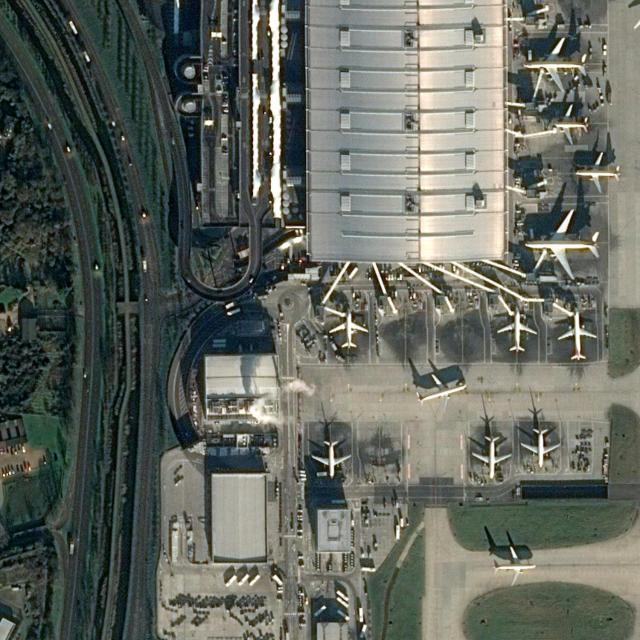Aircraft: (523, 207, 599, 279), (523, 37, 588, 92), (416, 372, 468, 414), (557, 309, 597, 361), (574, 152, 620, 194), (496, 307, 538, 352), (492, 545, 536, 587), (471, 435, 511, 479), (520, 428, 560, 468), (328, 309, 368, 348), (311, 440, 351, 479), (550, 104, 588, 145)
